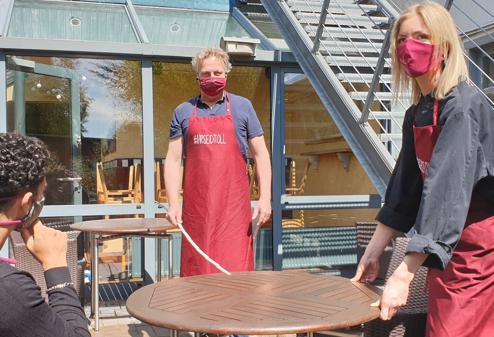Good: (163, 1, 494, 318), (1, 41, 270, 271)
